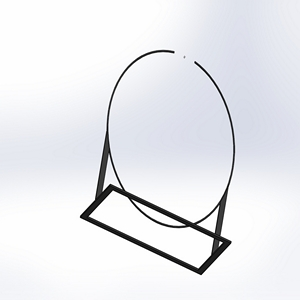circle: (79, 47, 238, 276)
